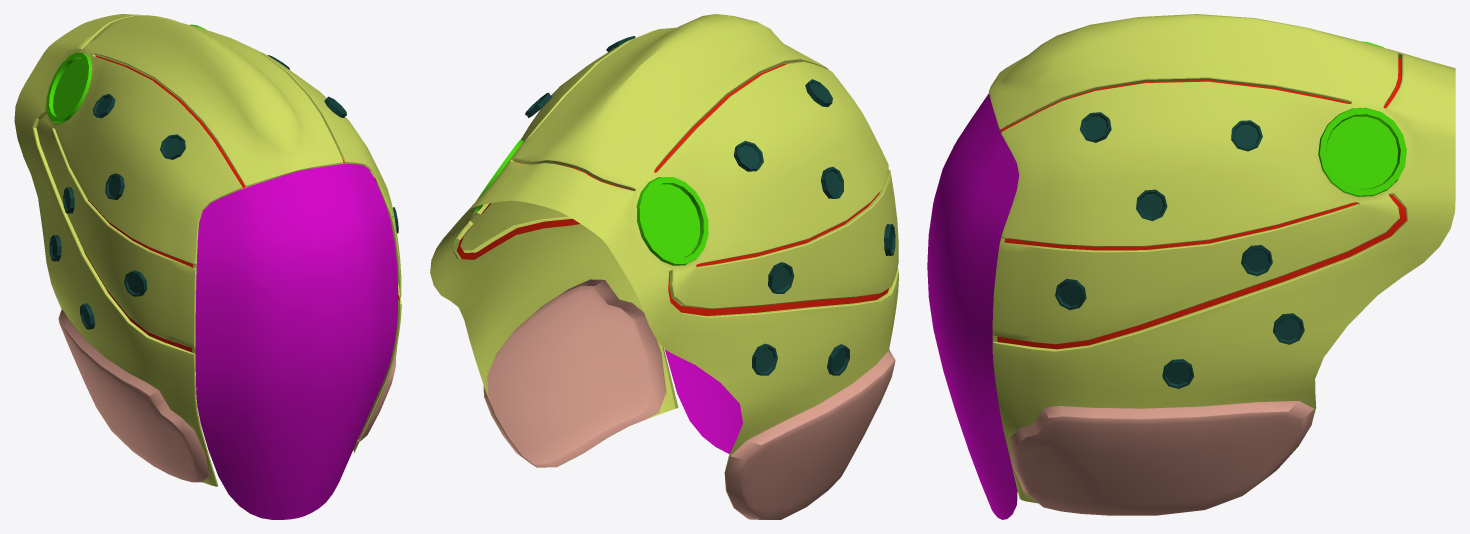
The model's file is helmet_end.fbx.
The picture shows the model from 3 angles, left to right: view 1: azimuth 30°, elevation 25°; view 2: azimuth 150°, elevation 25°; view 3: azimuth 270°, elevation 25°; orthographic projection. The views are drawn at different scales.
Visible parts, largest first — view 1: Cube.004; view 2: Cube.004; view 3: Cube.004.
Boxes of the visible parts, x1,y1,x2,y2 form: Cube.004: [14, 14, 401, 519]; Cube.004: [430, 14, 898, 519]; Cube.004: [927, 14, 1455, 519].
Size of the model in its own units: 7.13 by 10.37 by 10.12.
